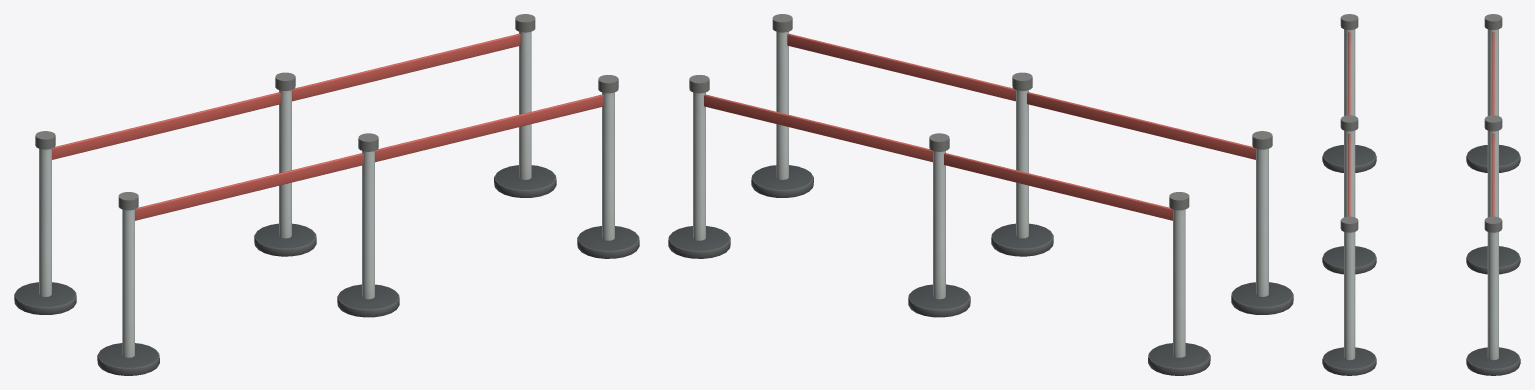
The model's file is QueueStanchions.fbx.
The picture shows the model from 3 angles, left to right: view 1: azimuth 30°, elevation 25°; view 2: azimuth 150°, elevation 25°; view 3: azimuth 270°, elevation 25°; orthographic projection. The views are drawn at different scales.
Parts seen in each view (by area): view 1: QueueStanchions; view 2: QueueStanchions; view 3: QueueStanchions.
Boxes of the visible parts, bbox=[...] form: QueueStanchions: bbox=[14, 14, 639, 375]; QueueStanchions: bbox=[668, 14, 1293, 375]; QueueStanchions: bbox=[1322, 14, 1520, 375].
Size of the model in its own units: 334 by 100 by 124.
